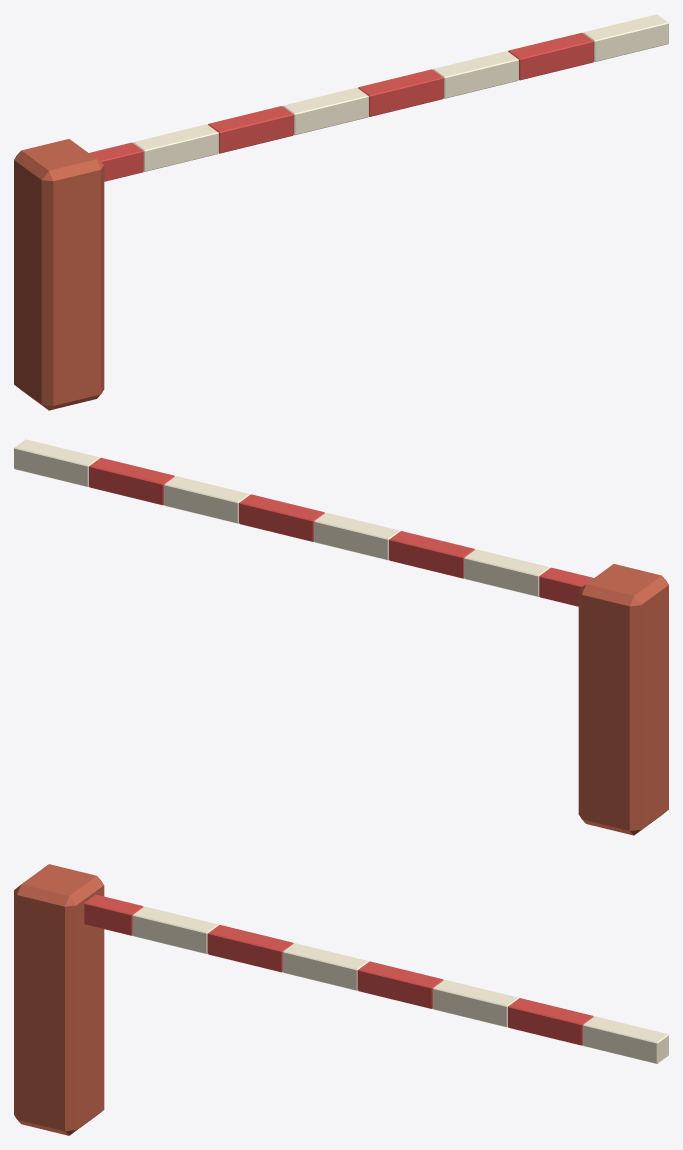
File: ParkingBarrier.fbx
The picture shows the model from 3 angles, top to bottom: view 1: azimuth 30°, elevation 25°; view 2: azimuth 150°, elevation 25°; view 3: azimuth 330°, elevation 25°; orthographic projection.
Parts seen in each view (by area): view 1: MotorPost, ArmStripe.001, ArmStripe.005, ArmStripe.006, ArmStripe.003, ArmStripe.004, ArmStripe.002, ArmStripe.007, ArmStripe; view 2: MotorPost, ArmStripe.001, ArmStripe.005, ArmStripe.006, ArmStripe.003, ArmStripe.004, ArmStripe.002, ArmStripe.007, ArmStripe; view 3: MotorPost, ArmStripe.007, ArmStripe.001, ArmStripe.002, ArmStripe.003, ArmStripe.004, ArmStripe.006, ArmStripe.005, ArmStripe.
Part boxes in pixels (box(x1,y1,x2,y2)): MotorPost: box(14, 139, 104, 410); ArmStripe.001: box(133, 124, 218, 171); ArmStripe.005: box(433, 51, 518, 98); ArmStripe.006: box(508, 32, 593, 80); ArmStripe.003: box(283, 87, 368, 135); ArmStripe.004: box(358, 69, 443, 116); ArmStripe.002: box(208, 106, 293, 153); ArmStripe.007: box(583, 14, 668, 61); ArmStripe: box(89, 142, 143, 181); MotorPost: box(578, 564, 668, 835); ArmStripe.001: box(464, 549, 549, 596); ArmStripe.005: box(164, 476, 249, 523); ArmStripe.006: box(89, 457, 174, 505); ArmStripe.003: box(314, 512, 399, 560); ArmStripe.004: box(239, 494, 324, 541); ArmStripe.002: box(389, 531, 474, 578); ArmStripe.007: box(14, 439, 99, 486); ArmStripe: box(539, 567, 593, 606); MotorPost: box(14, 864, 104, 1135); ArmStripe.007: box(583, 1016, 668, 1063); ArmStripe.001: box(132, 906, 218, 953); ArmStripe.002: box(207, 925, 293, 972); ArmStripe.003: box(282, 943, 368, 990); ArmStripe.004: box(357, 961, 443, 1008); ArmStripe.006: box(508, 998, 593, 1045); ArmStripe.005: box(433, 979, 518, 1027); ArmStripe: box(84, 894, 143, 935).
Size of the model in its own units: 3.05 by 1.1 by 0.3.
